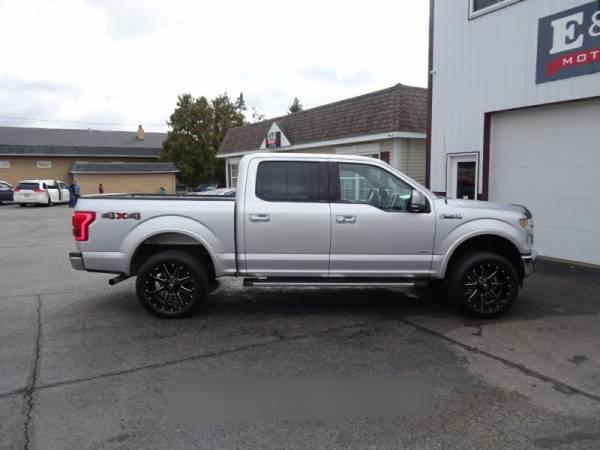Front_Bumper: (521, 250, 538, 278)
Front_Fender: (432, 201, 532, 282)
Front_Right_Door: (330, 205, 436, 278)
Front_Right_Window: (330, 158, 434, 214)
Rear_Bumper: (66, 251, 86, 272)
Rear_Fender: (71, 198, 235, 275)
Rear_Right_Door: (237, 199, 331, 276)
Rear_Right_Window: (239, 155, 330, 203)
Right_Headlight: (523, 218, 537, 251)
Right_Taillight: (68, 210, 92, 241)
Wheel: (136, 251, 207, 317), (453, 250, 521, 316)
